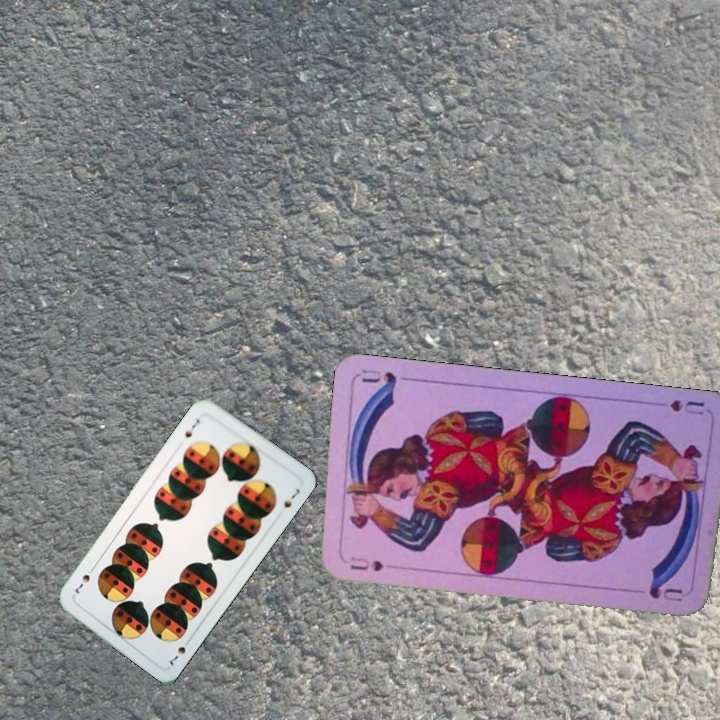S7: (165, 634, 194, 669), (180, 415, 203, 440)
SU: (666, 396, 707, 419), (346, 552, 387, 575)
